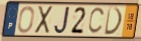2: (69, 6, 88, 35)
C: (87, 6, 106, 36)
D: (103, 6, 124, 36)
J: (53, 6, 71, 36)
O: (16, 6, 36, 35)
X: (34, 5, 54, 35)
